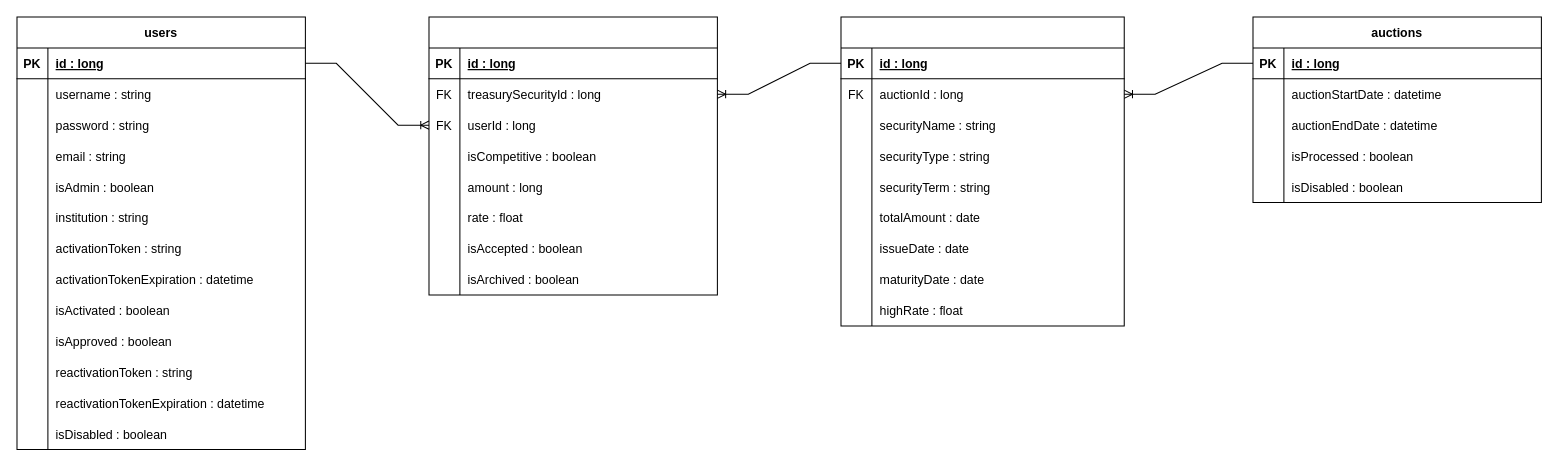
This 1558x467 diagram has some shape labels left out. Here are the shapes that lost their labels. From the top down, the box of each, then its label:
(428, 16, 717, 295): bids
(840, 16, 1124, 326): treasury_securities
